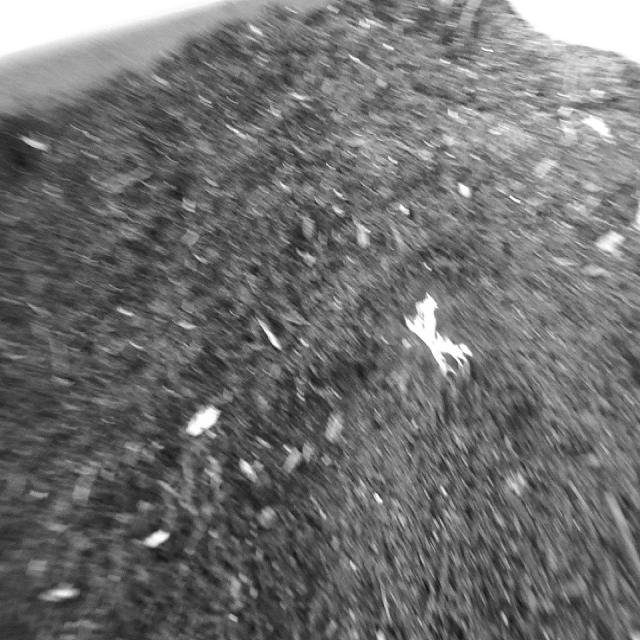Unhealthy: (402, 288, 478, 395)
